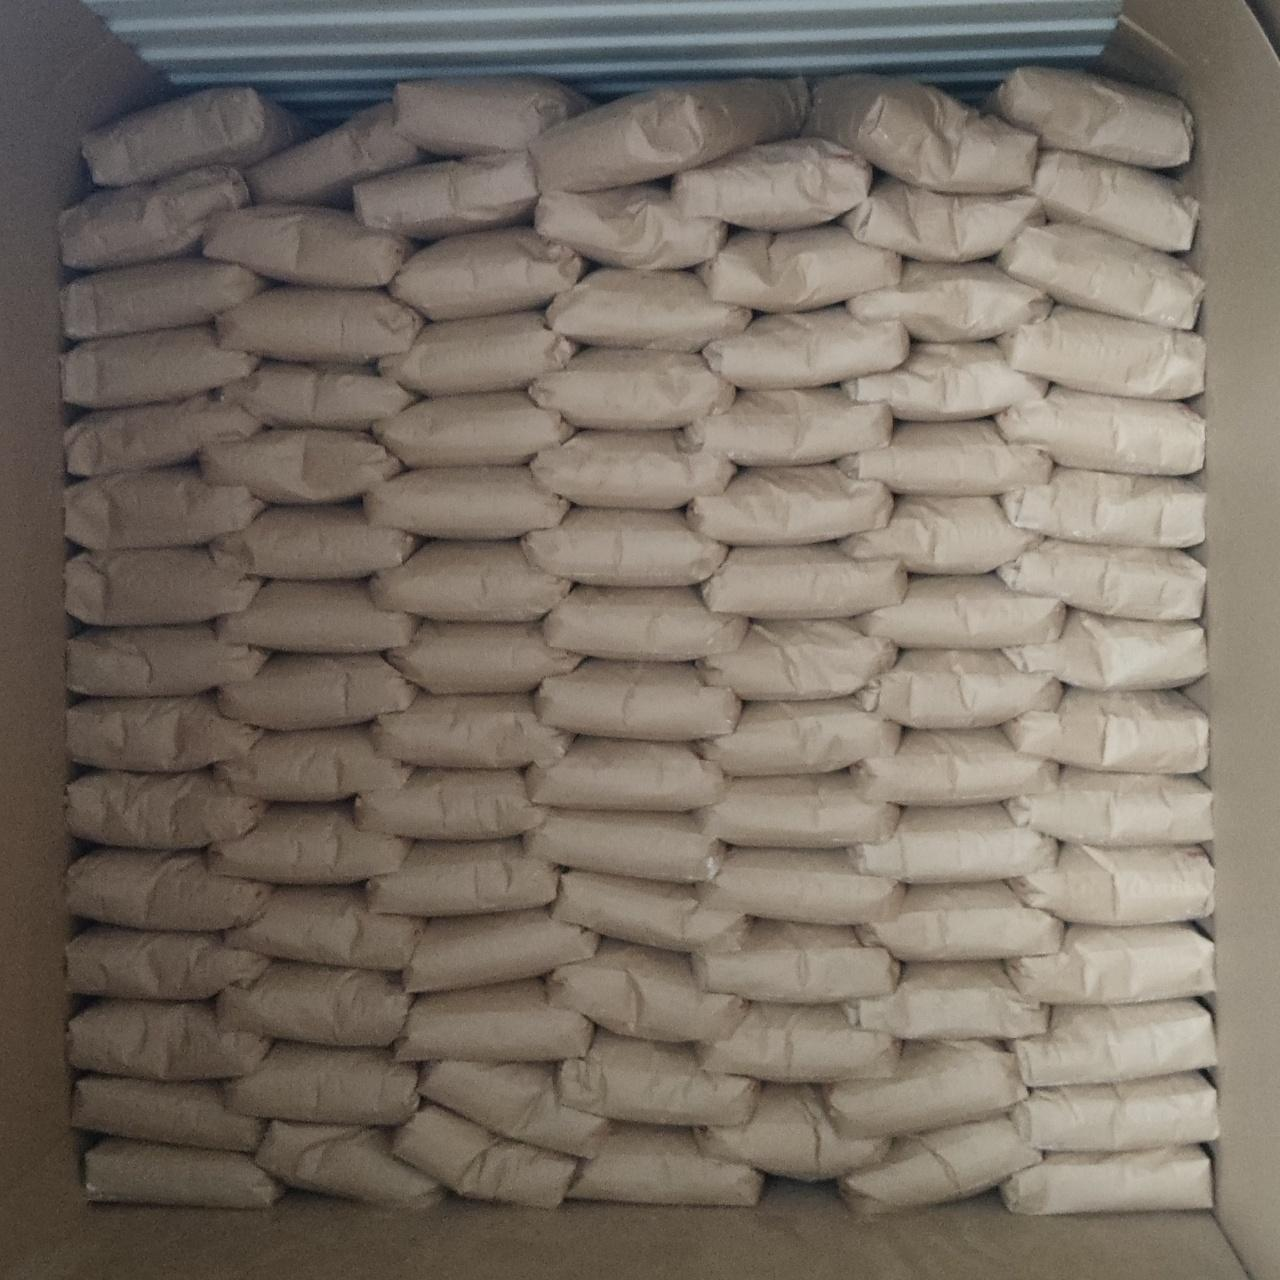sack: (529, 79, 810, 192), (804, 76, 1037, 193), (82, 86, 301, 186), (996, 224, 1201, 330), (990, 67, 1193, 169), (547, 941, 746, 1041), (997, 305, 1205, 400), (840, 1115, 1041, 1213), (62, 165, 250, 269), (822, 1041, 1025, 1136), (995, 385, 1204, 475), (672, 137, 872, 231), (393, 1106, 577, 1207), (695, 1084, 888, 1180), (559, 1031, 757, 1124), (389, 227, 587, 319), (420, 1061, 609, 1157), (1009, 999, 1217, 1086), (244, 103, 424, 203), (697, 225, 901, 312), (203, 204, 412, 288), (1001, 688, 1207, 773), (1007, 842, 1214, 926), (840, 177, 1044, 262), (1031, 149, 1197, 253), (545, 268, 752, 351), (692, 920, 899, 1003), (534, 658, 740, 741), (998, 539, 1206, 621), (378, 311, 577, 396), (703, 305, 909, 387), (62, 257, 265, 340), (225, 886, 425, 970), (1004, 925, 1214, 1005), (67, 849, 271, 931), (687, 464, 893, 545), (1003, 767, 1213, 846), (1008, 1072, 1218, 1151), (848, 804, 1057, 883), (529, 347, 734, 427), (1004, 609, 1206, 690), (1000, 467, 1204, 547), (847, 262, 1053, 341), (217, 963, 413, 1046), (684, 387, 892, 465), (353, 151, 537, 239), (211, 503, 421, 580), (68, 1001, 270, 1081), (697, 1002, 899, 1082), (65, 395, 262, 477), (396, 979, 593, 1061), (851, 728, 1058, 806), (837, 420, 1052, 495), (65, 468, 264, 549), (842, 961, 1048, 1039), (371, 540, 569, 621), (859, 650, 1062, 729), (698, 697, 901, 776), (860, 882, 1063, 961), (534, 184, 727, 267), (216, 286, 424, 363), (62, 327, 259, 408), (256, 1121, 441, 1207), (842, 343, 1048, 420), (699, 848, 905, 925), (209, 804, 407, 884), (522, 508, 727, 585), (404, 910, 598, 991), (531, 430, 735, 507), (841, 496, 1042, 574), (225, 1043, 418, 1124), (372, 390, 574, 467), (566, 1126, 762, 1205), (697, 621, 897, 698), (66, 771, 265, 848), (65, 548, 261, 626), (551, 871, 742, 951), (856, 575, 1065, 648), (218, 653, 416, 730), (701, 544, 907, 618), (544, 586, 747, 661), (394, 77, 589, 155), (695, 773, 899, 847), (67, 925, 269, 999), (200, 429, 401, 503), (1000, 1145, 1212, 1215), (73, 1075, 264, 1152), (526, 737, 724, 811), (67, 696, 261, 771), (215, 726, 409, 801), (364, 467, 568, 538), (368, 839, 558, 915), (370, 695, 570, 767), (68, 624, 266, 696), (216, 581, 416, 652), (388, 621, 583, 693), (523, 811, 723, 881), (354, 768, 546, 840), (85, 1139, 282, 1208), (224, 361, 413, 429)
